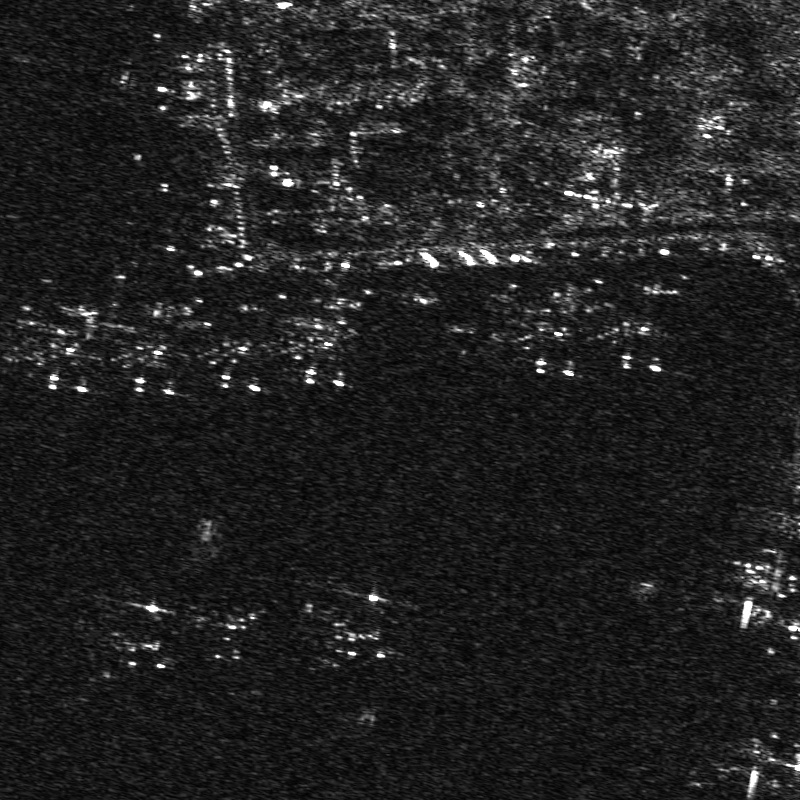A320/321: (32, 302, 104, 394)
ARJ21: (509, 292, 575, 379)
Boeing737: (589, 281, 680, 376), (107, 306, 191, 396), (197, 302, 276, 393)
other: (305, 579, 404, 664), (279, 296, 362, 391), (96, 592, 176, 675), (193, 595, 279, 668)
